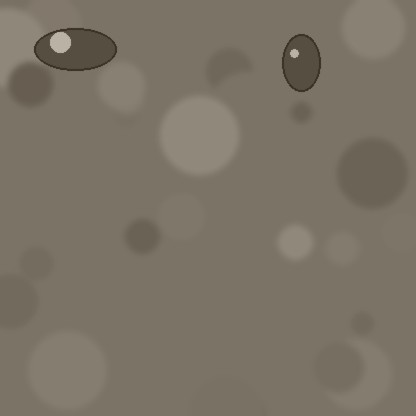gota: (34, 30, 116, 74), (282, 36, 320, 96)
